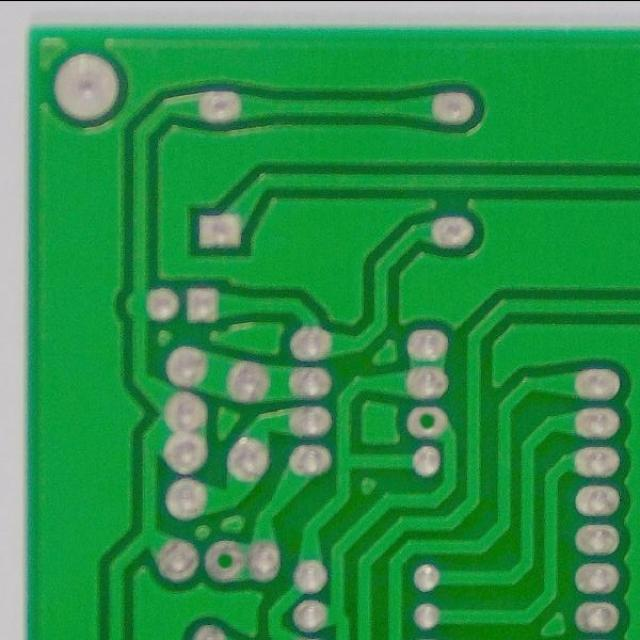missing_hole: (198, 536, 252, 584), (403, 399, 450, 440)
